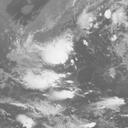cyclone: (39, 41, 69, 65)
